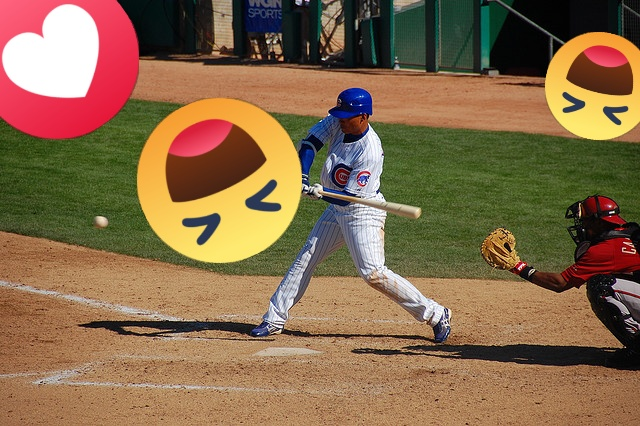haha: (137, 98, 302, 263), (545, 32, 640, 140)
love: (0, 0, 139, 139)
